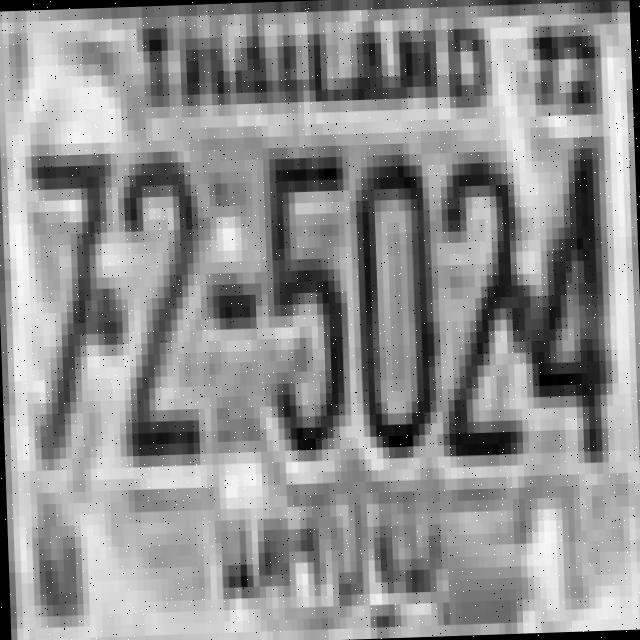0: (347, 142, 437, 448)
2: (433, 144, 529, 450), (112, 139, 202, 456)
4: (518, 130, 608, 448)
5: (259, 134, 349, 451)
7: (21, 131, 118, 459)
NakhonPathom: (204, 483, 455, 640)
